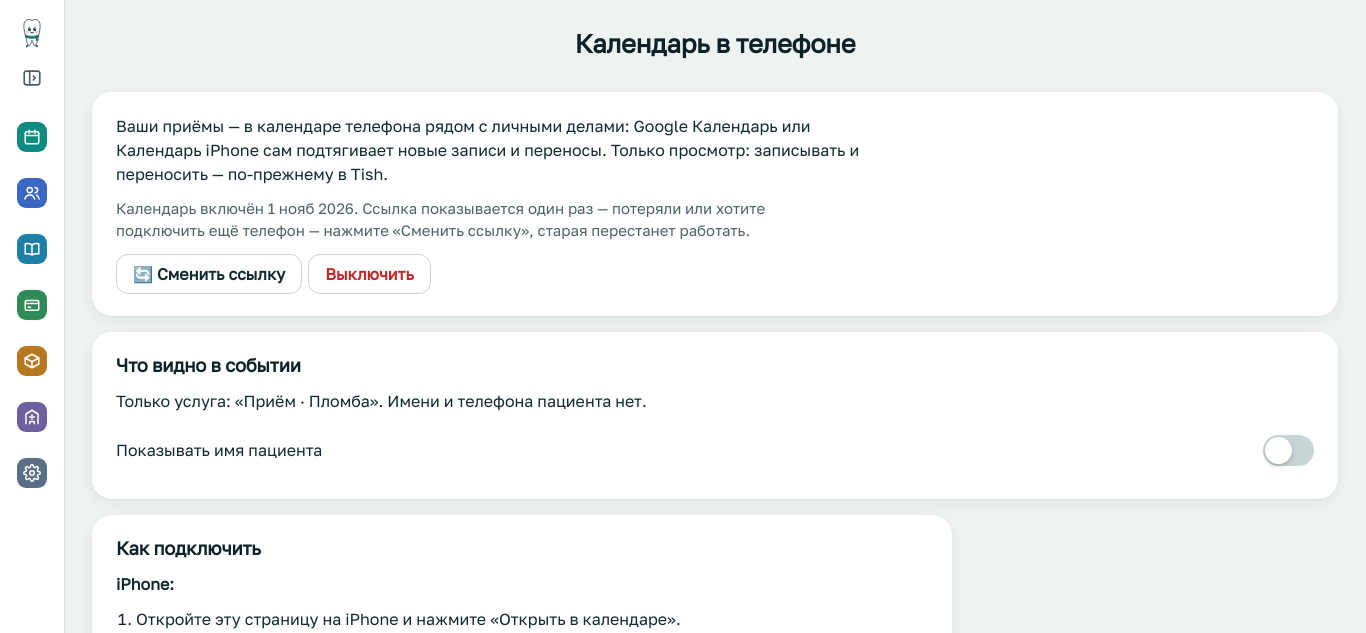
включённый календарь: ссылки уже не видно — «Сменить ссылку» выдаёт новую, «Выключить» гасит
Check: the text "Ссылка показывается один раз" is shown, box [116,199,765,239]
Click the button "🔄 Сменить ссылку" at (209, 274), box [116,254,302,294]
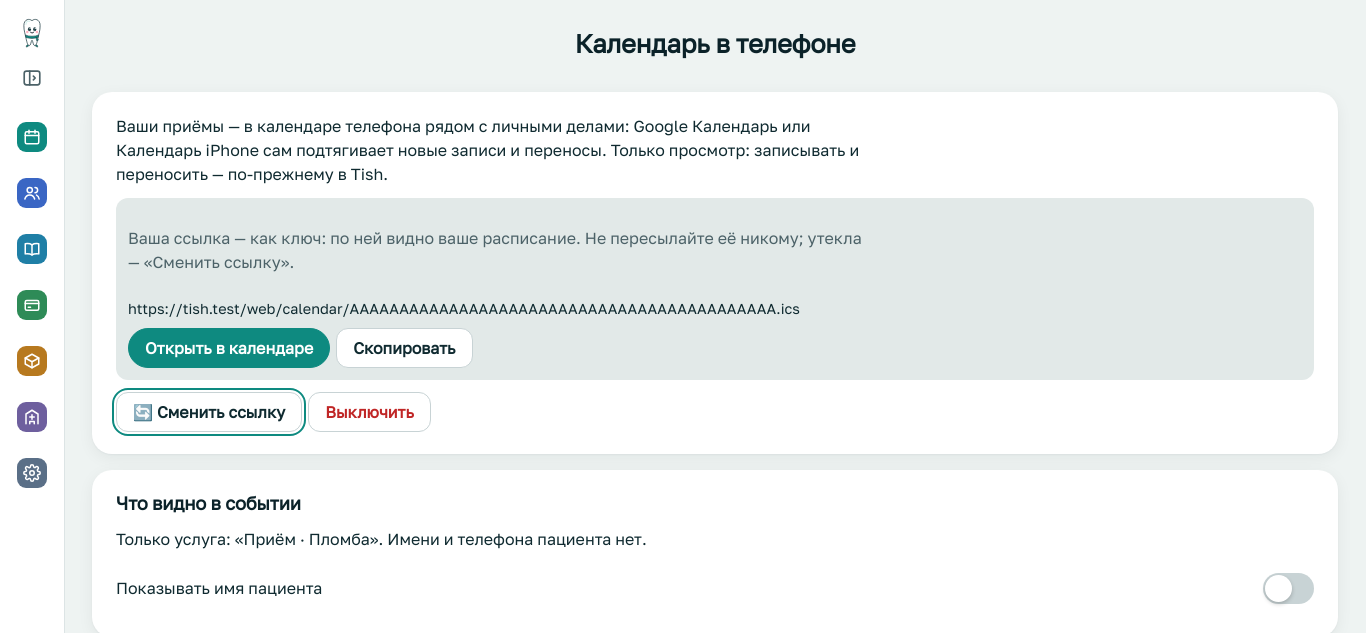
Check: the text named "Ссылка календаря" is shown, box [128,300,800,317]
Click the button "Выключить" at (370, 412), box [308,392,431,432]
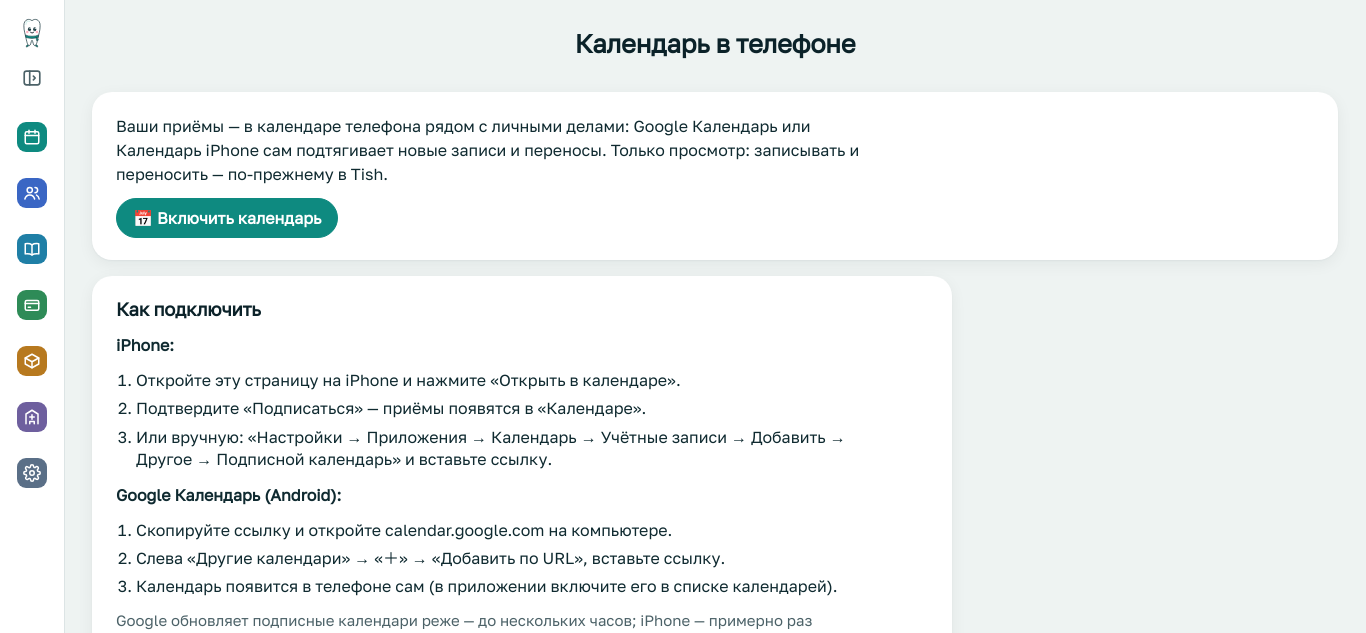
Check: the button "📅 Включить календарь" is shown, box [116,198,338,238]
